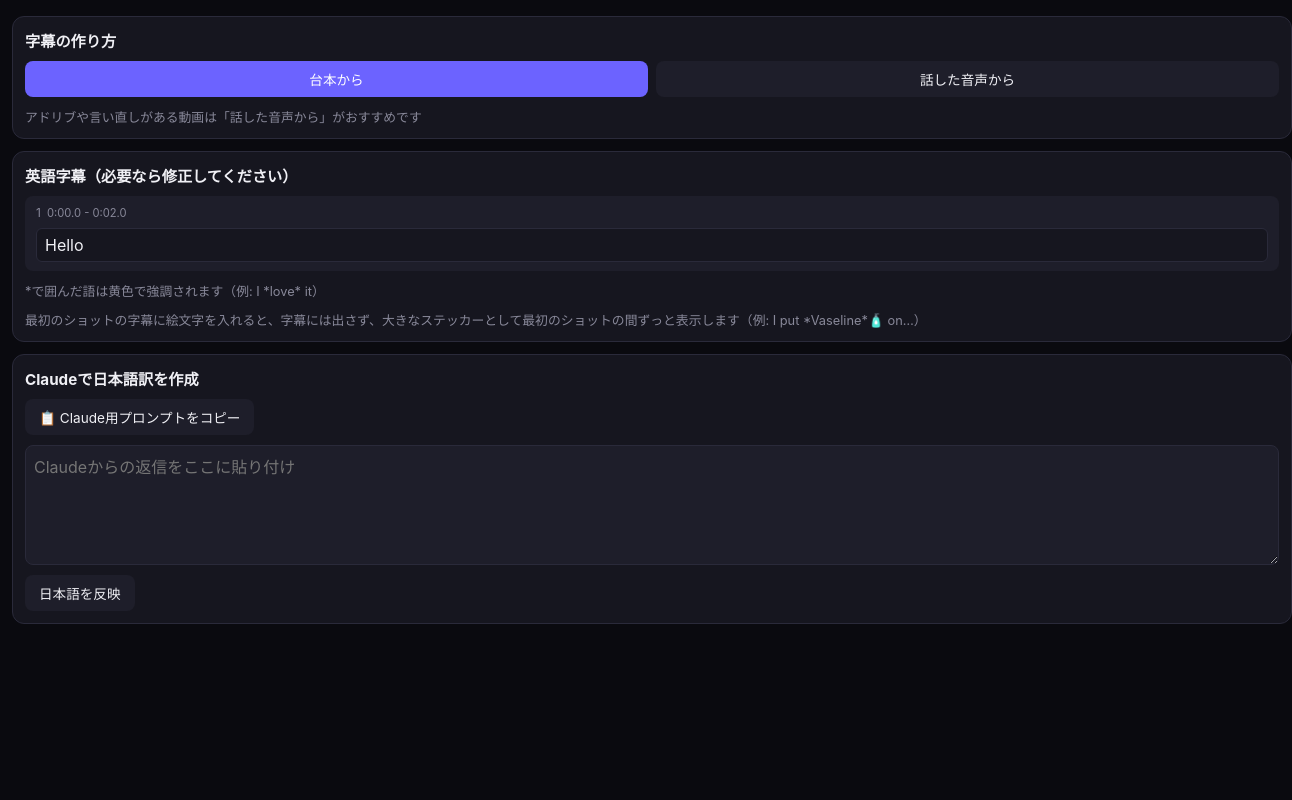
Test: SubtitleWorkflow subtitles from speech › shows a failure and keeps the script cues
This screenshot has width=1292, height=800.
Click the button "話した音声から" at point(968, 79), box [656,61,1279,97]
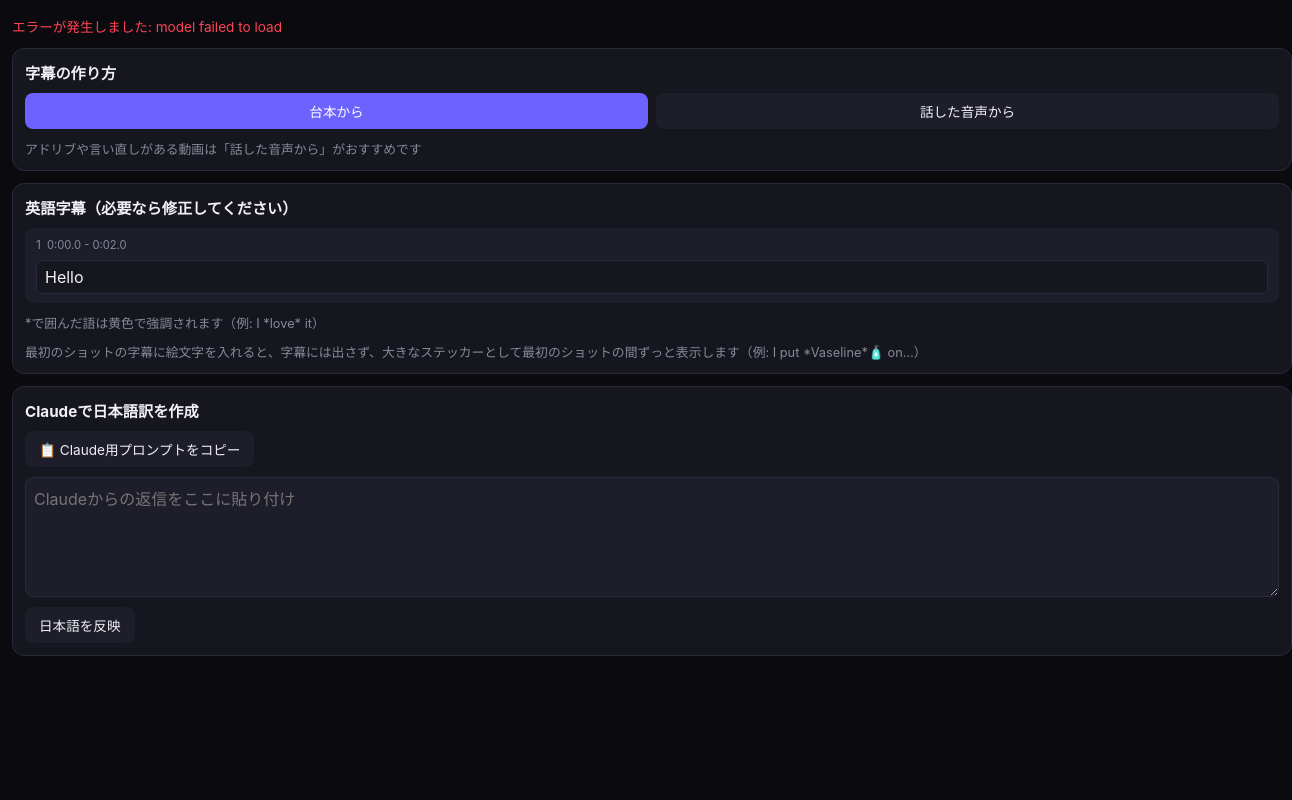
expect the field showing "Hello" is shown: met, box [36,260,1268,294]
expect the text "エラーが発生しました: model failed to load" is shown: met, box [12,19,282,35]
